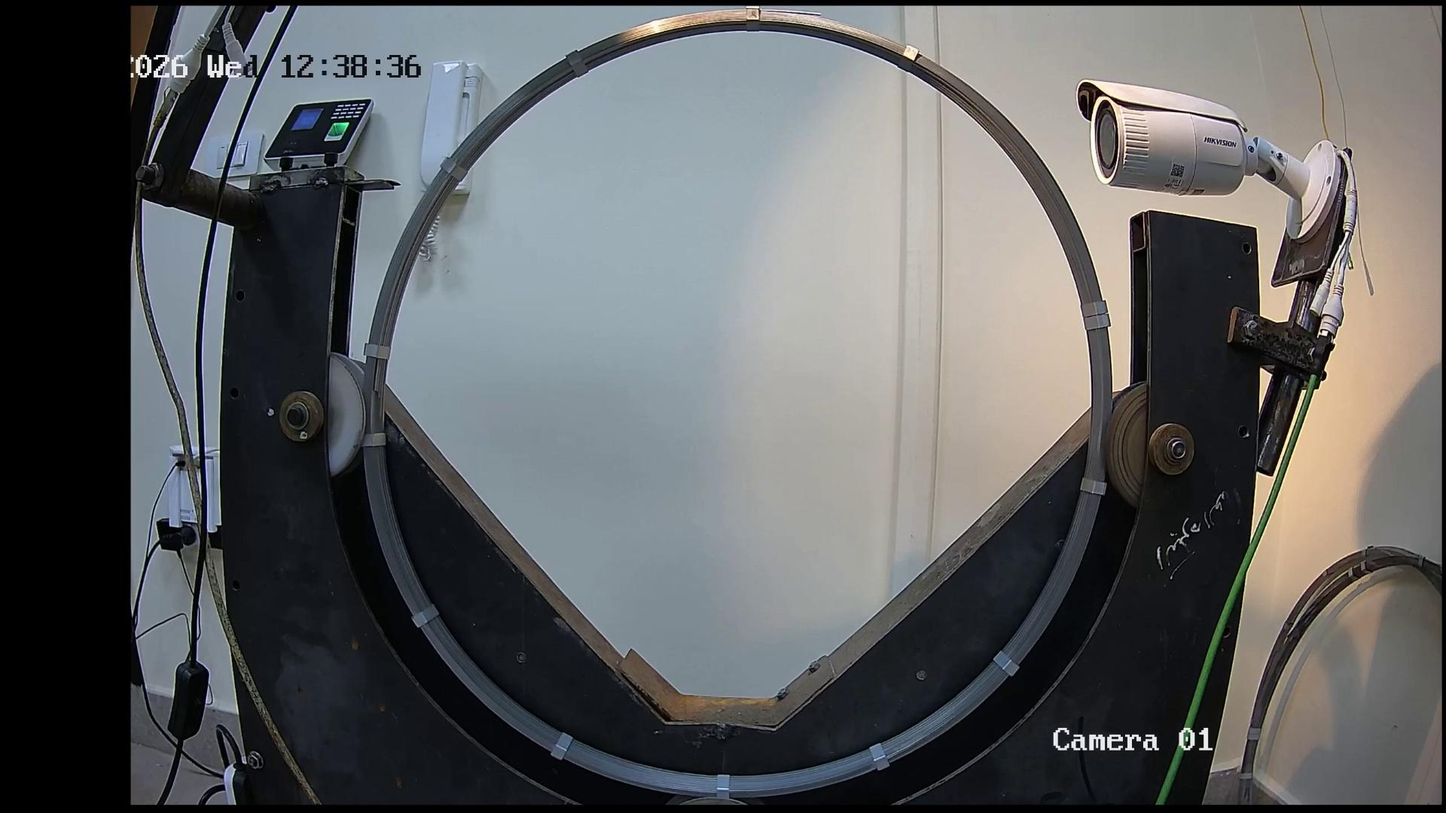clamp: (538, 725, 597, 766), (407, 587, 452, 640), (354, 331, 426, 361), (555, 43, 602, 88), (697, 768, 753, 805), (427, 151, 482, 186), (891, 30, 926, 81), (1071, 314, 1128, 344), (356, 416, 388, 467), (864, 730, 900, 775), (985, 644, 1030, 679), (731, 0, 772, 36), (1075, 469, 1115, 504), (1077, 292, 1109, 320)
